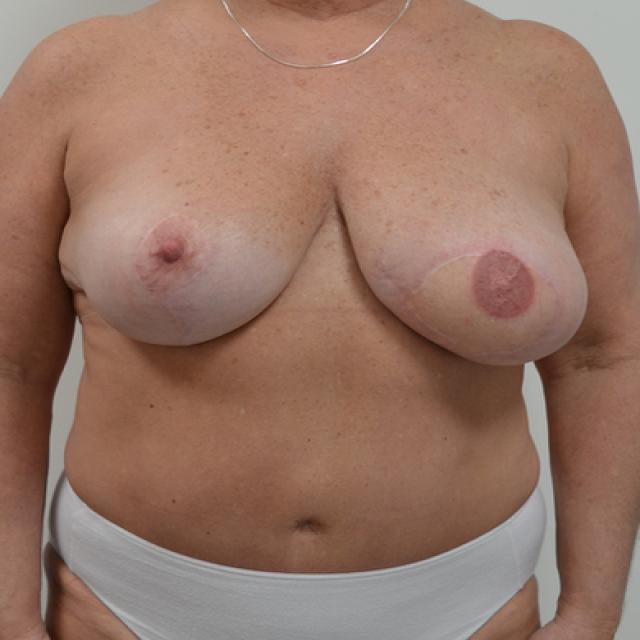Seno herido: (336, 142, 595, 382), (52, 140, 328, 365)
